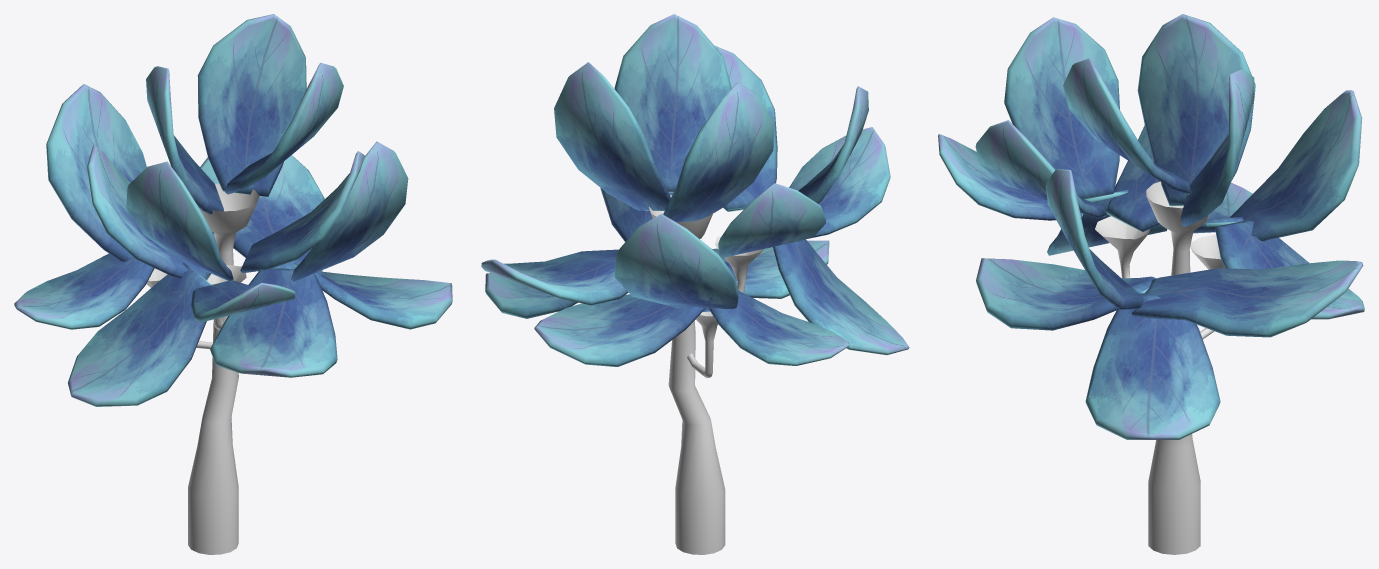
The model's file is MOD_TreeSmall.FBX.
The picture shows the model from 3 angles, left to right: view 1: azimuth 30°, elevation 25°; view 2: azimuth 150°, elevation 25°; view 3: azimuth 270°, elevation 25°; orthographic projection. The views are drawn at different scales.
Parts seen in each view (by area): view 1: Plane045, Cylinder017; view 2: Plane045, Cylinder017; view 3: Plane045, Cylinder017.
Part boxes in pixels (x1=…): Plane045: x1=14, y1=14, x2=452, y2=406; Cylinder017: x1=146, y1=183, x2=259, y2=554; Plane045: x1=481, y1=14, x2=909, y2=366; Cylinder017: x1=648, y1=195, x2=763, y2=554; Plane045: x1=938, y1=14, x2=1364, y2=439; Cylinder017: x1=1095, y1=181, x2=1224, y2=554.
Bounding box in the file's own units: 104 × 121 × 90.21.
1 material, 1 textured.
